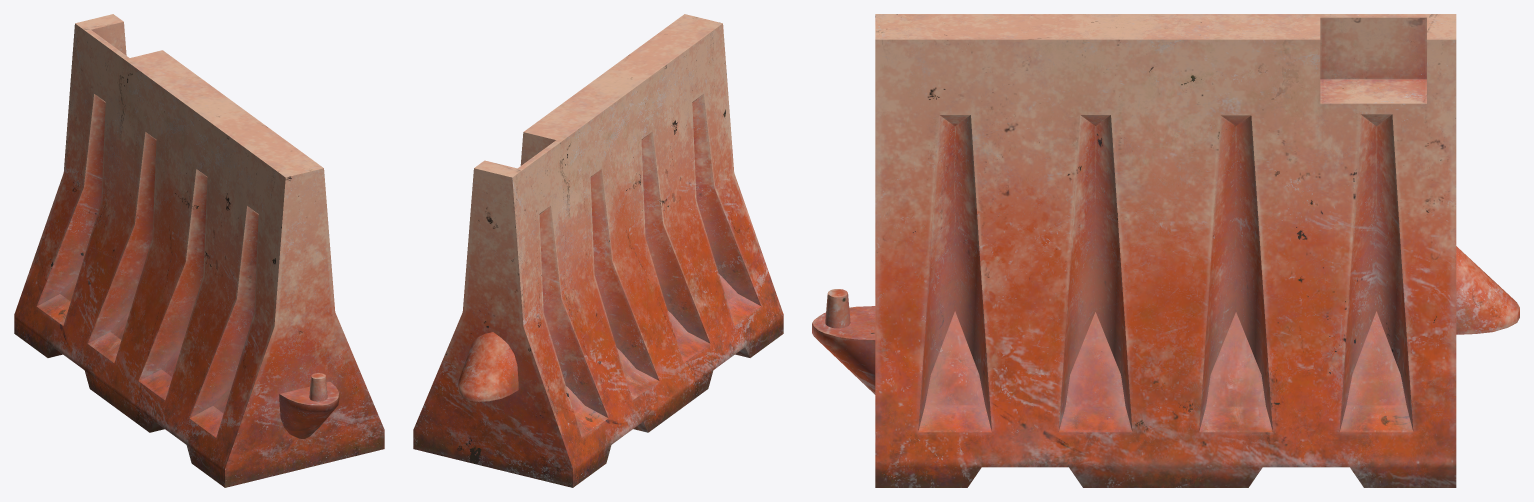
Rendered from Barrier_02a_snaps005.fbx.
3 renders of one model, left to right at view 1: azimuth 30°, elevation 25°; view 2: azimuth 150°, elevation 25°; view 3: azimuth 270°, elevation 25°, orthographic. The views are drawn at different scales.
Visible parts, largest first — view 1: Barrier_02a_snaps005_LOD0; view 2: Barrier_02a_snaps005_LOD0; view 3: Barrier_02a_snaps005_LOD0.
Boxes of the visible parts, x1,y1,x2,y2 form: Barrier_02a_snaps005_LOD0: [14, 14, 384, 487]; Barrier_02a_snaps005_LOD0: [413, 14, 783, 487]; Barrier_02a_snaps005_LOD0: [812, 14, 1519, 487].
Size of what is drawn, in the model's own units: 48.15 by 85.22 by 134.
